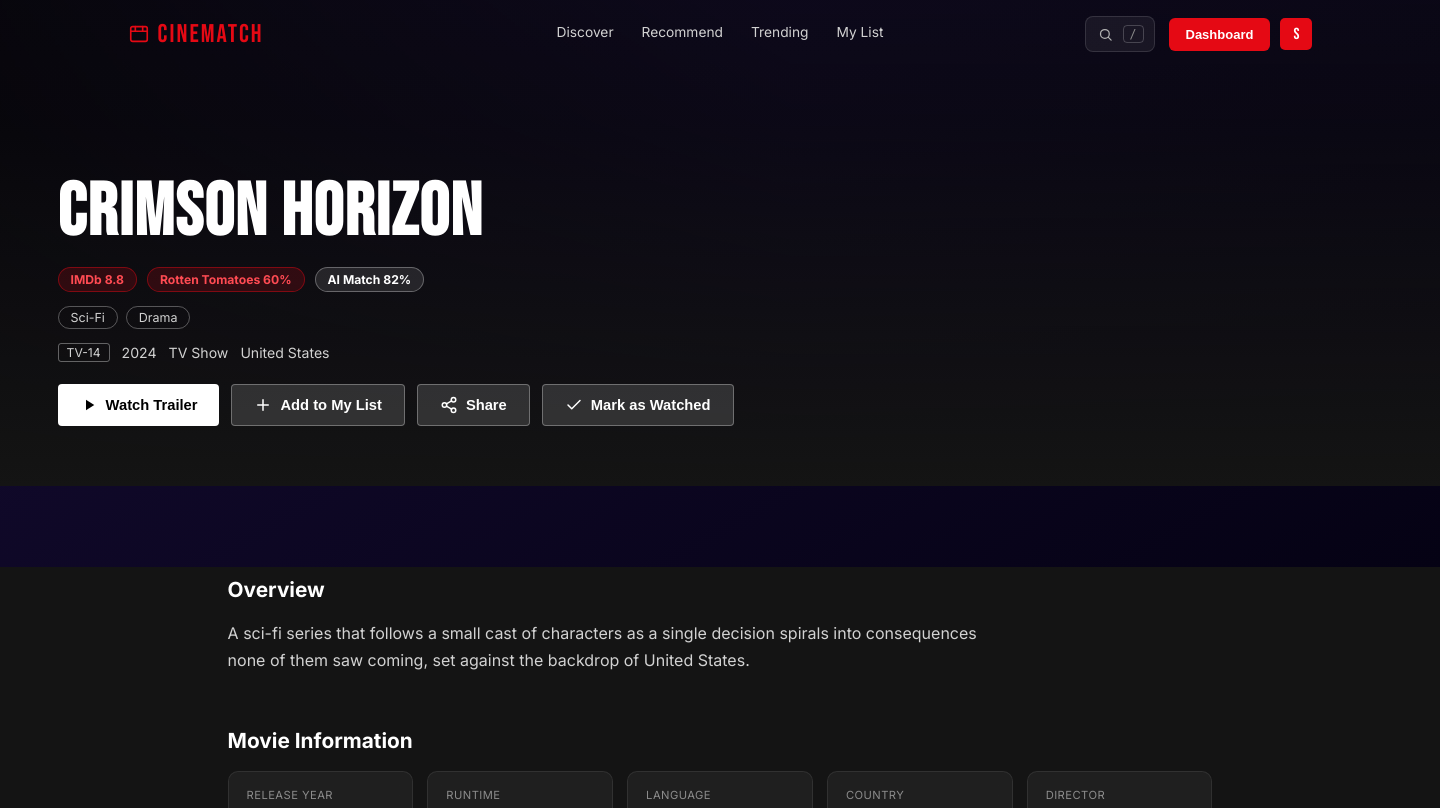
Test: Authenticated user — Favorites & Watch History › adds a title to My List from the Title Detail page — persists correctly in storage
(page scrolled)
Expected: the heading "Crimson Horizon" is shown, [58,169,483,257]
Click the button "Add to My List" at (318, 405), box [232,384,405,426]
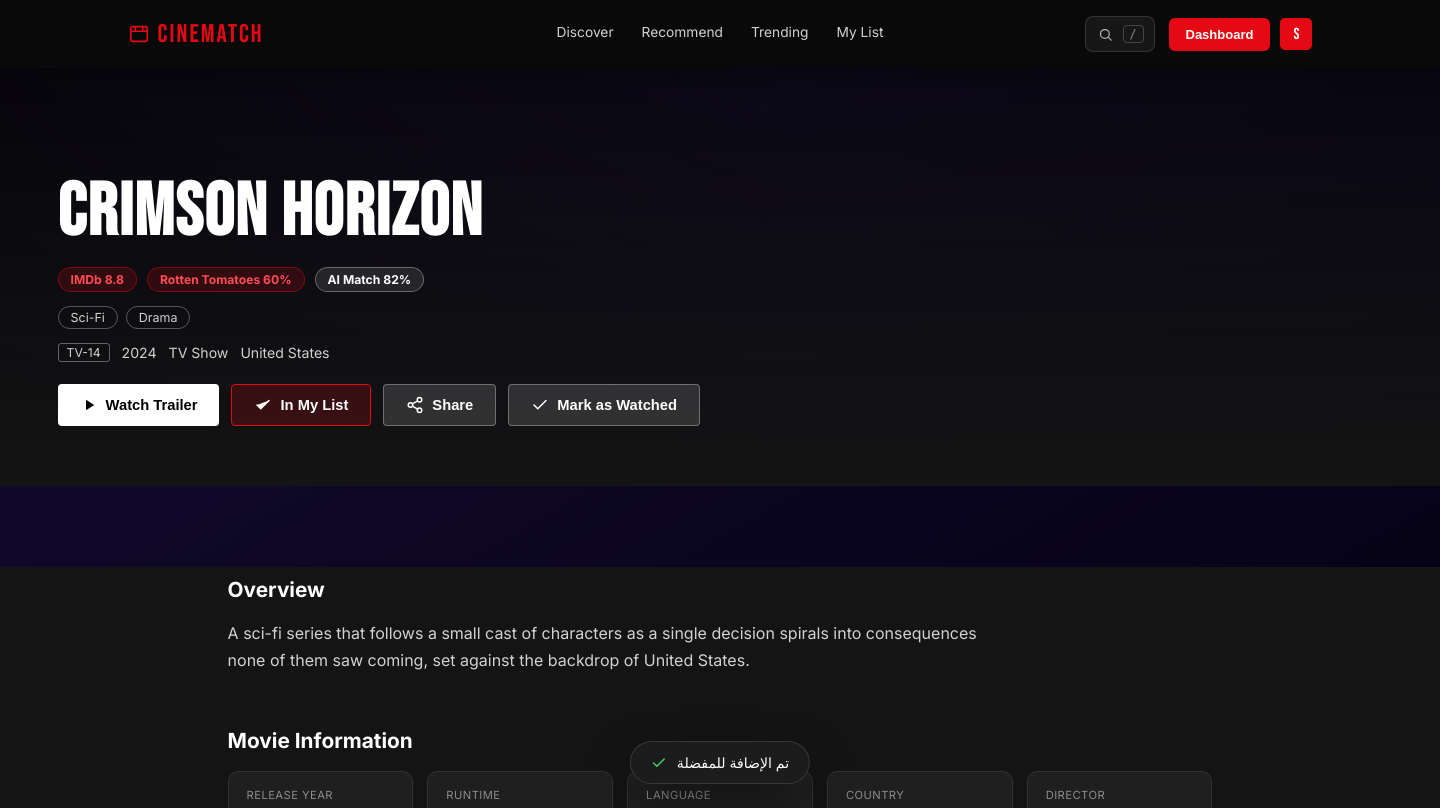
Expected: the heading "Crimson Horizon" is shown, [58,169,483,257]
Expected: the button "In My List" is shown, [232,384,371,426]
